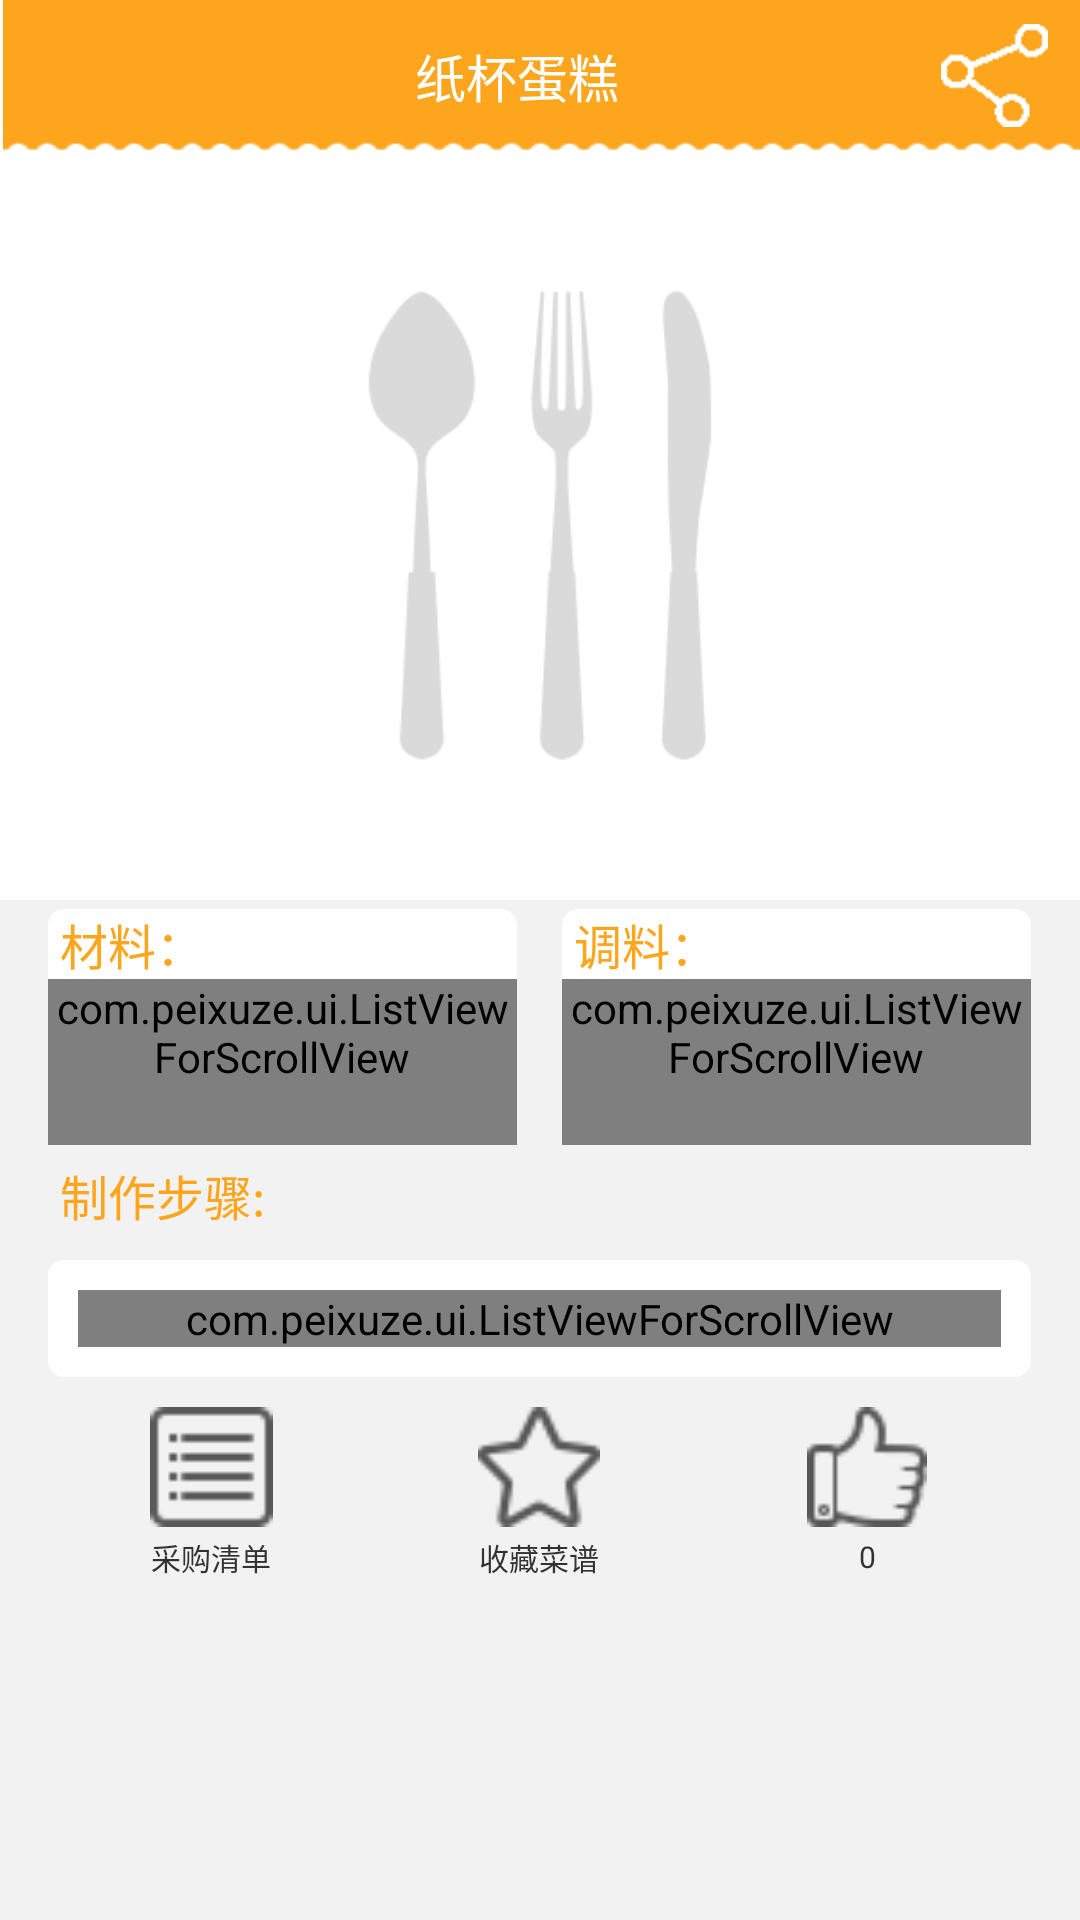

Icon bounding boxes for this 1080w x 1920h phone screenshot, format [x1=x1, y1=y1, x2=x2, y2=y2]:
buttonshare: [x1=941, y1=24, x2=1048, y2=127]
prise: [x1=807, y1=1407, x2=927, y2=1527]
